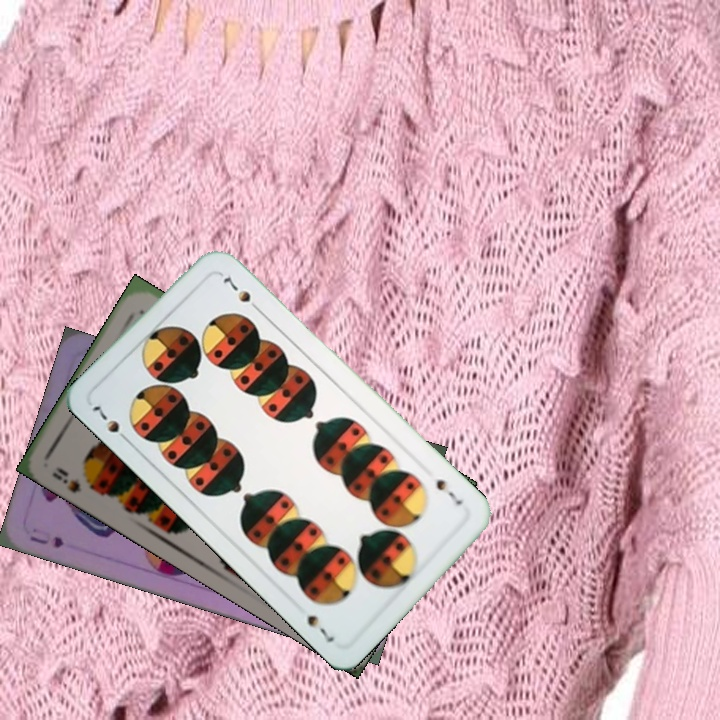S7: (87, 401, 133, 446), (432, 475, 465, 508)
S9: (48, 463, 101, 496)
SU: (25, 532, 67, 551)
